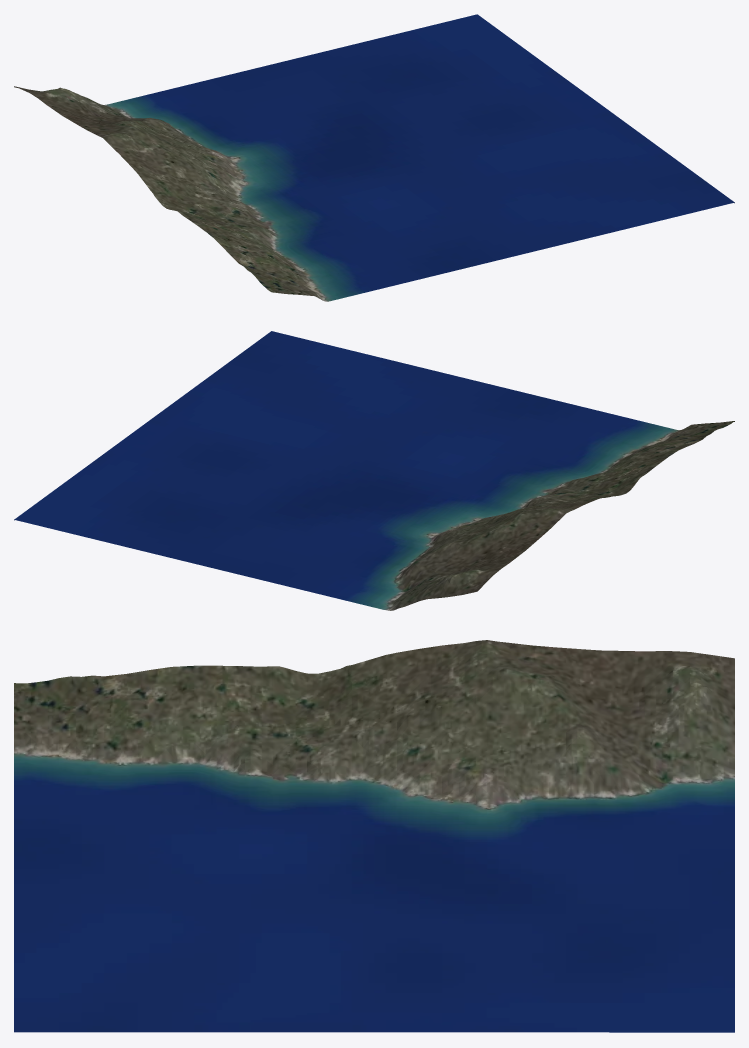
3 views of the same model, one above another, from view 1: azimuth 30°, elevation 25°; view 2: azimuth 150°, elevation 25°; view 3: azimuth 270°, elevation 25° (orthographic). The views are drawn at different scales.
Size of the model in its own units: 500 by 58.37 by 481.
Materials: 1 (1 with a texture image).
